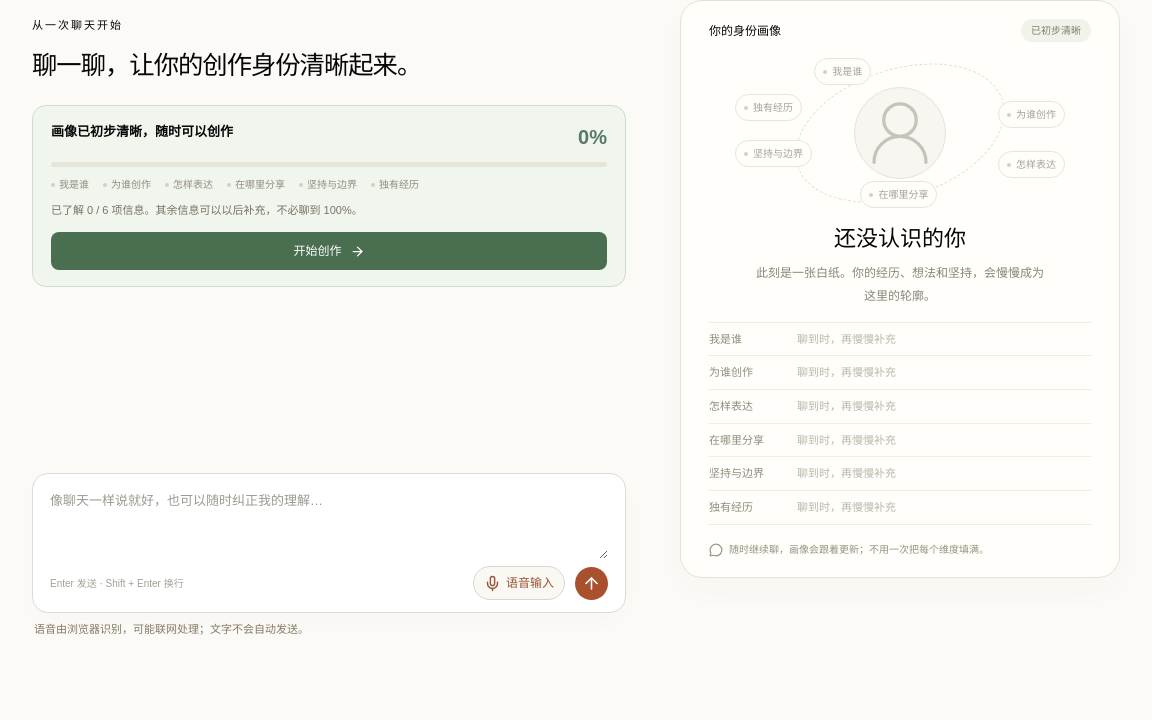
Scenario: portrait voice input › supports the prefixed implementation and preserves text after a denied permission
Type "别丢掉" into the text box.
click(329, 524); type("别丢掉")  # box [50, 489, 608, 559]
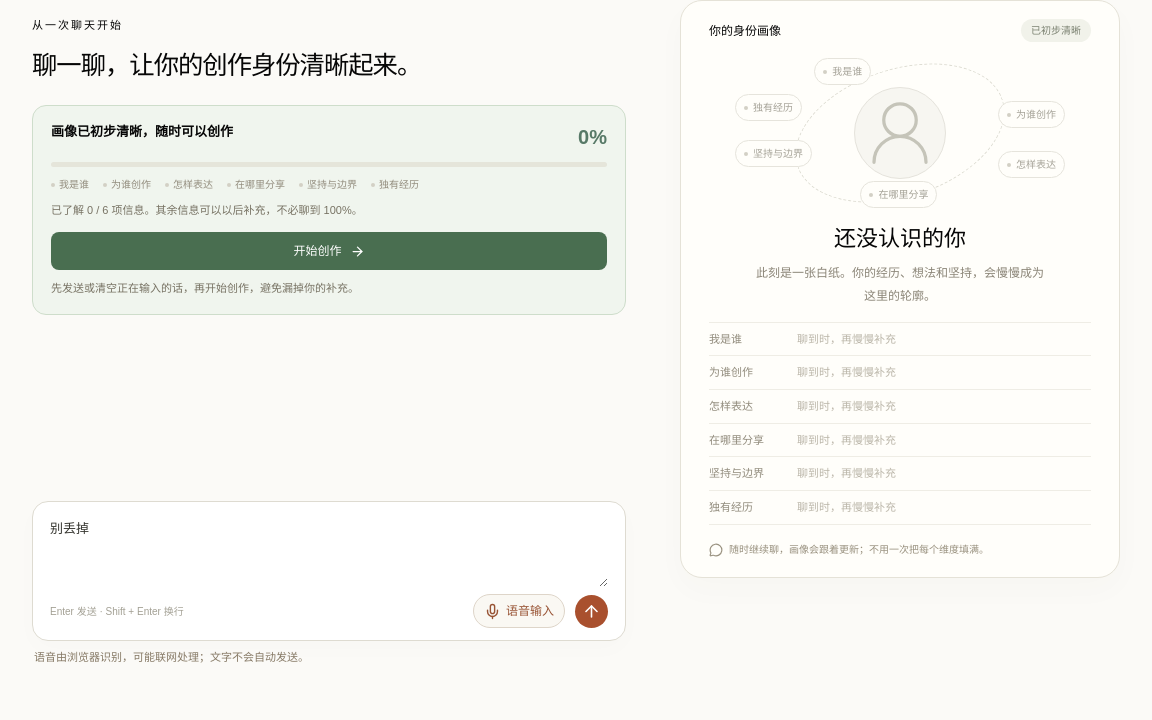
Click the button with aria-label "开始语音输入".
click(519, 611)  # box [473, 594, 565, 628]
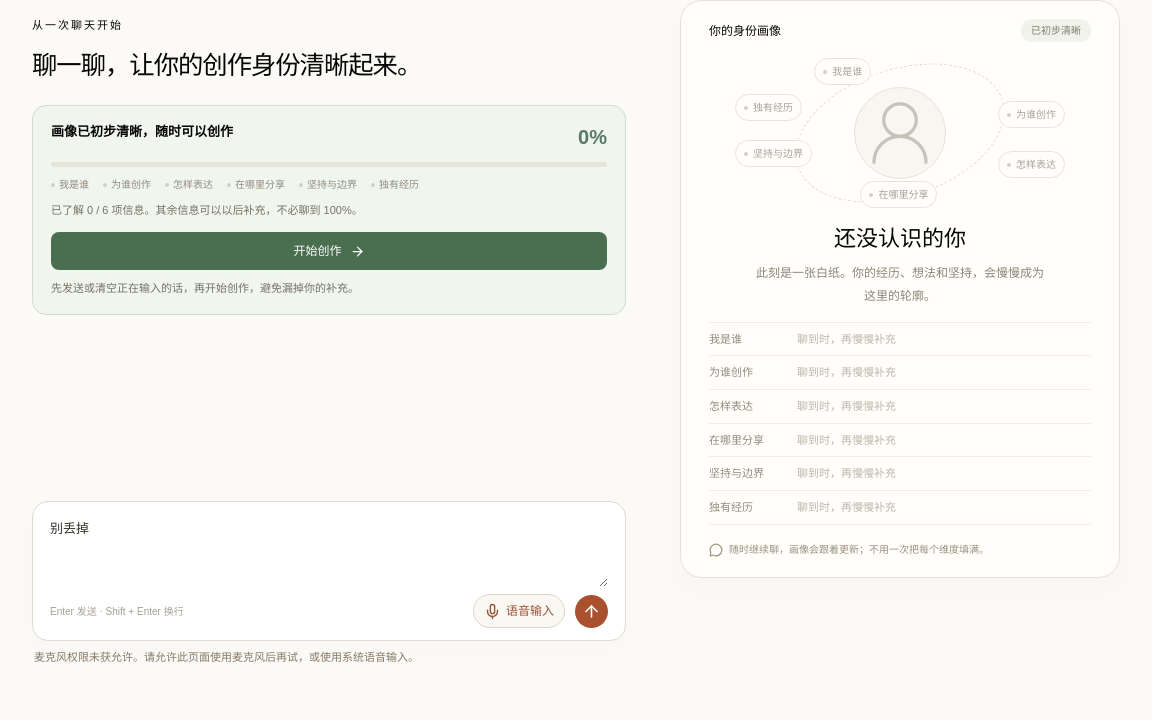
Expected: the message shows "麦克风权限未获允许", [34, 651, 419, 663]
